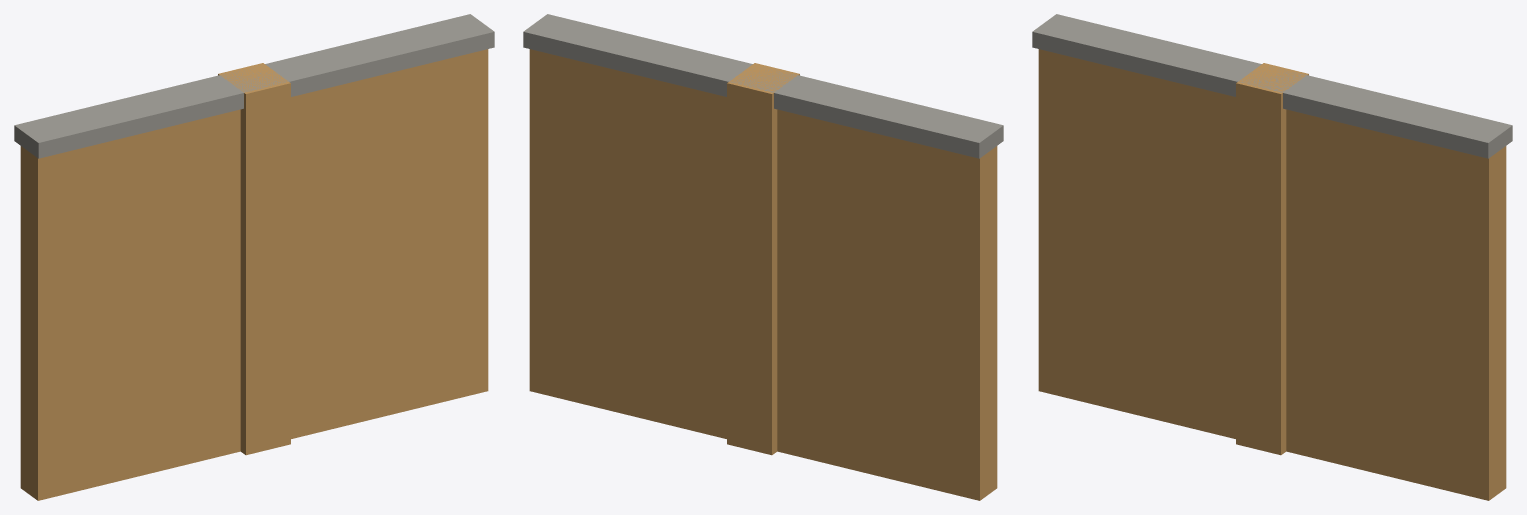
Rendered from muro_alto.glb.
The picture shows the model from 3 angles, left to right: view 1: azimuth 30°, elevation 25°; view 2: azimuth 150°, elevation 25°; view 3: azimuth 330°, elevation 25°; orthographic projection.
Parts seen in each view (by area): view 1: muro_alto; view 2: muro_alto; view 3: muro_alto.
Part boxes in pixels (x1,y1,x2,y2): muro_alto: [14, 14, 494, 500]; muro_alto: [523, 14, 1003, 500]; muro_alto: [1032, 14, 1512, 500].
Bounding box in the file's own units: 3.04 × 2.3 × 0.32.
